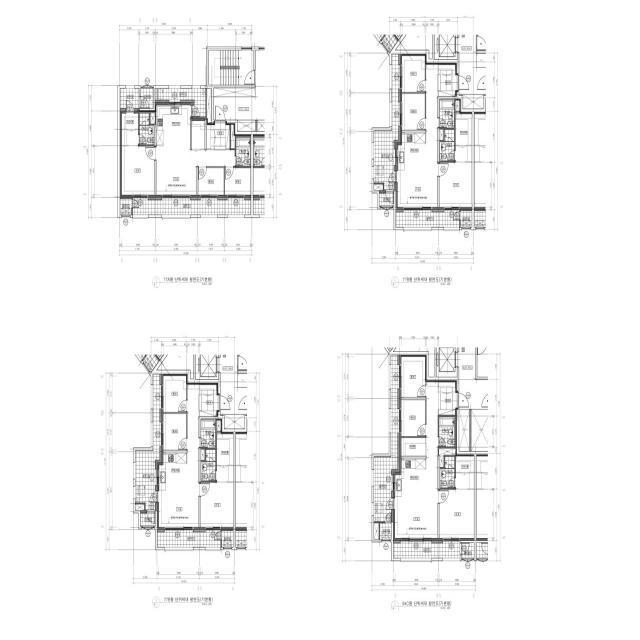space_balconi: (374, 355, 399, 522), (374, 54, 400, 190), (135, 374, 161, 510), (133, 198, 251, 215), (155, 89, 206, 117), (393, 541, 460, 558), (396, 210, 460, 227), (157, 530, 221, 547), (398, 133, 426, 170), (159, 453, 187, 490), (120, 88, 139, 111)
space_bedroom: (459, 347, 488, 409), (120, 146, 154, 197), (440, 490, 474, 541), (440, 162, 472, 209), (201, 482, 233, 529), (400, 355, 426, 397), (400, 54, 425, 92), (161, 374, 186, 412), (399, 400, 425, 436), (400, 94, 425, 130), (162, 414, 186, 450), (198, 168, 224, 197), (225, 168, 251, 197)
space_dressroom: (456, 454, 474, 490), (120, 111, 138, 145), (456, 112, 472, 145), (217, 432, 233, 465), (456, 146, 472, 161), (217, 466, 233, 481)
space_elevator: (435, 34, 457, 59), (196, 354, 218, 379)
space_elevator_hall: (459, 35, 476, 94), (220, 355, 237, 414), (214, 97, 256, 120)
space_front: (207, 121, 230, 150), (438, 391, 458, 415), (438, 73, 458, 96), (199, 393, 219, 416)
space_kitchen: (156, 103, 190, 150), (393, 459, 426, 498)
space_living_room: (393, 380, 438, 541), (396, 63, 438, 209), (157, 383, 199, 529), (156, 150, 235, 197)
space_other: (471, 409, 488, 451), (190, 118, 205, 150), (400, 438, 425, 456), (459, 410, 469, 451), (459, 95, 486, 109), (220, 415, 247, 429), (214, 88, 255, 97), (439, 448, 456, 467), (141, 88, 153, 108), (237, 120, 255, 131), (439, 380, 457, 391), (379, 193, 394, 206), (141, 513, 155, 526), (439, 63, 457, 73), (462, 543, 474, 558), (200, 383, 218, 393), (207, 88, 211, 123), (231, 125, 235, 148), (374, 523, 379, 539), (455, 99, 461, 111), (217, 419, 222, 431), (150, 113, 155, 124), (374, 184, 383, 190), (135, 504, 144, 510), (201, 449, 205, 460), (440, 129, 443, 140)
space_outdoor_room: (120, 199, 131, 215), (461, 211, 472, 227), (380, 523, 391, 539), (222, 531, 233, 547)
space_staircase: (209, 50, 253, 85)
space_toilet: (439, 416, 455, 447), (139, 113, 154, 145), (201, 449, 216, 481), (440, 456, 455, 488), (440, 129, 454, 161), (236, 137, 251, 166), (201, 419, 216, 448), (440, 99, 454, 128)
